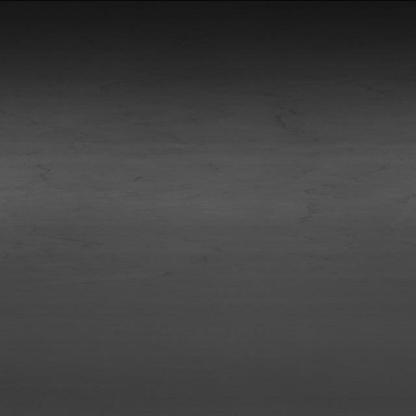silk_spot: (224, 88, 351, 236), (29, 106, 173, 214)
